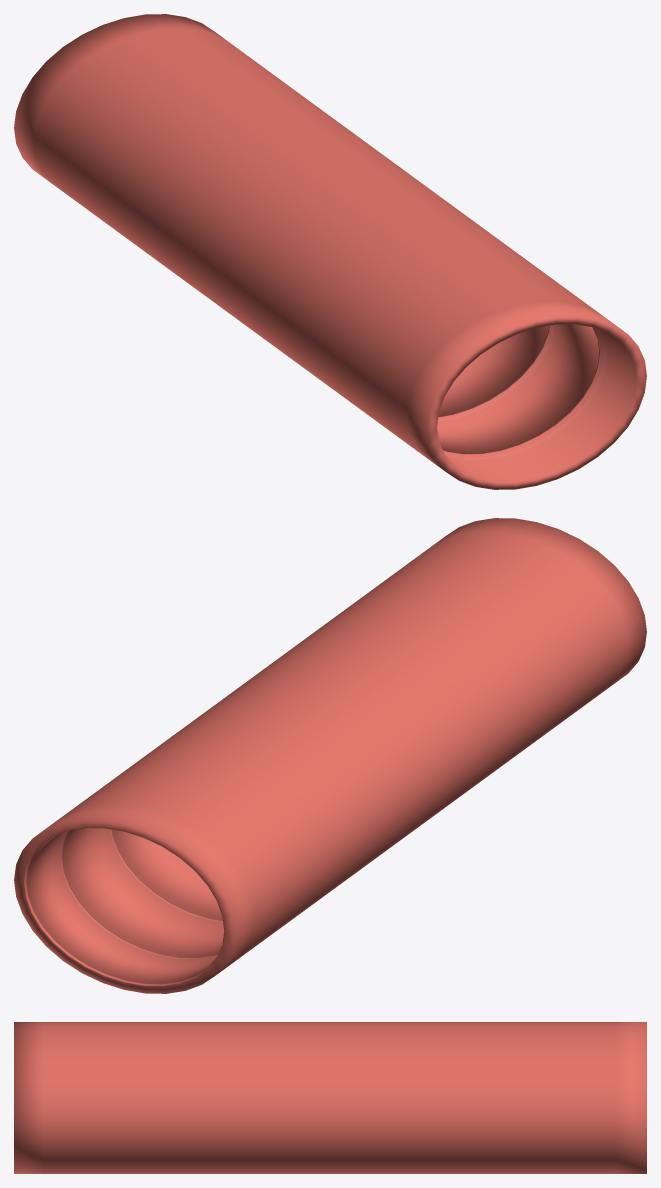
File: wall.obj
3 views of the same model, one above another, from view 1: azimuth 30°, elevation 25°; view 2: azimuth 150°, elevation 25°; view 3: azimuth 270°, elevation 25° (orthographic). The views are drawn at different scales.
Visible parts, largest first — view 1: 円柱; view 2: 円柱; view 3: 円柱.
Part boxes in pixels (<box>): 円柱: <box>14,14,646,489</box>; 円柱: <box>14,518,646,993</box>; 円柱: <box>14,1022,646,1173</box>.
Size of the model in its own units: 2 by 1.44 by 6.48.
Materials: 1 (1 with a texture image).
